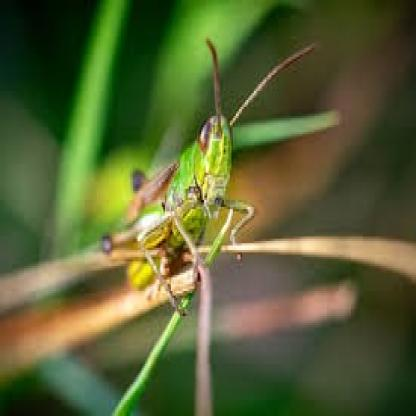grasshopper: (98, 42, 322, 309)
